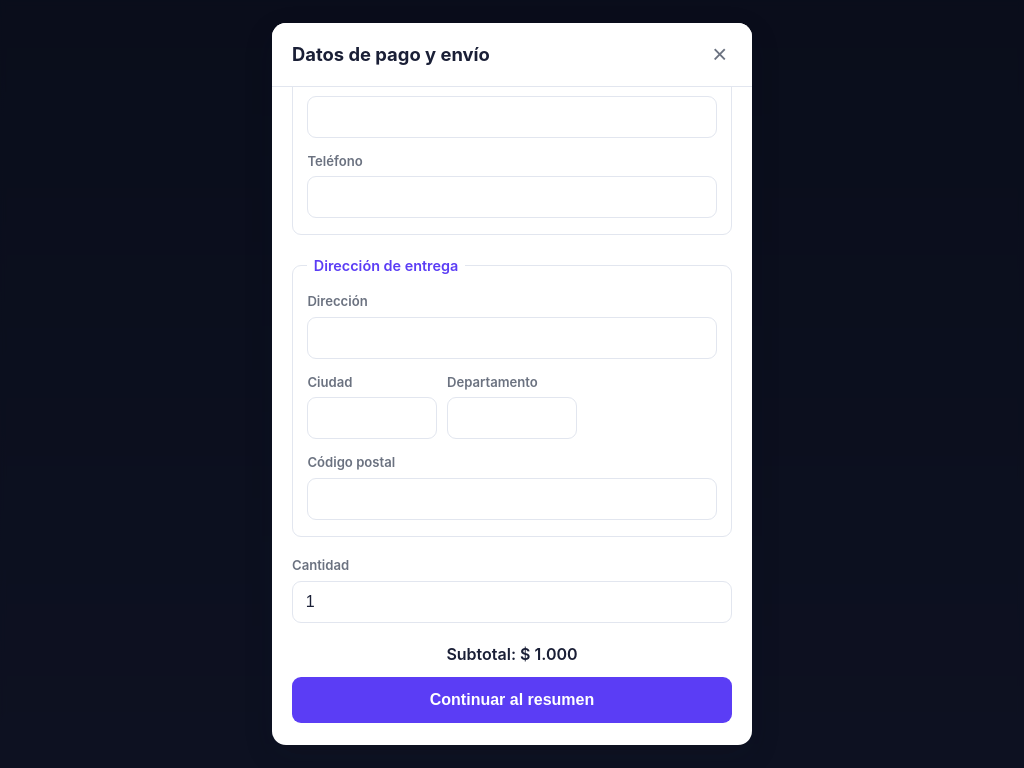
Scenario: PaymentModal › shows validation errors on empty submit
(page scrolled)
Click the button "Continuar al resumen" at (512, 700), box [292, 677, 732, 723]
(page scrolled)
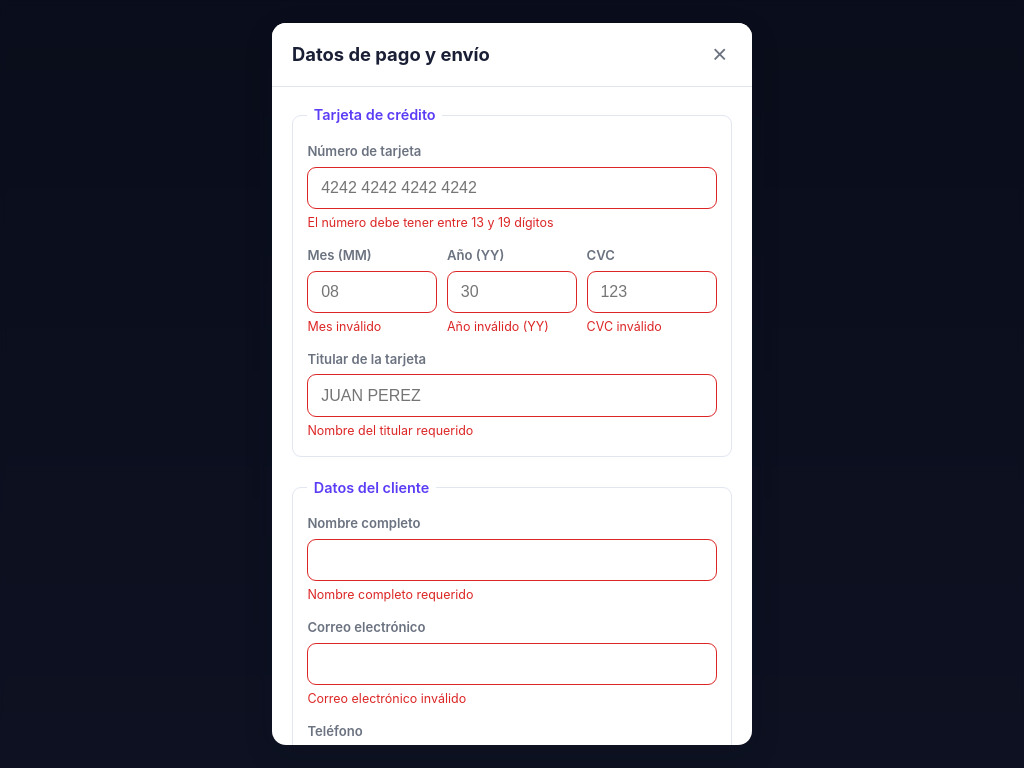
Now the text "El número debe tener entre 13 y 19 dígitos" is shown, box [307, 215, 554, 230]
